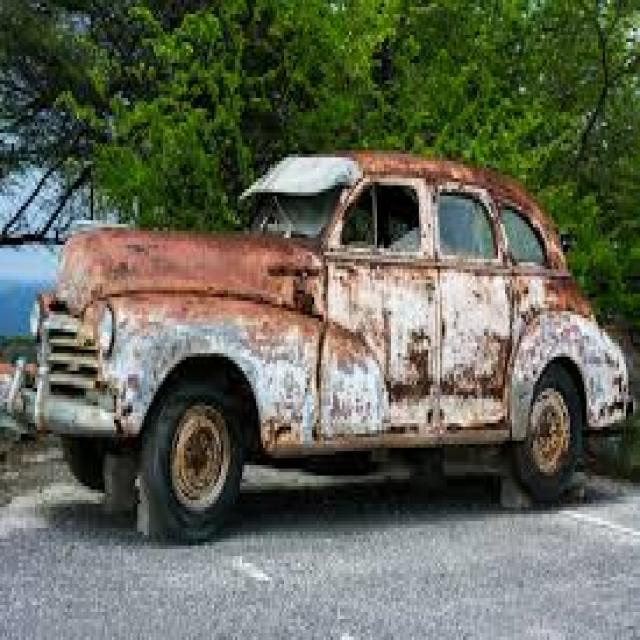Car: (0, 152, 631, 555)
